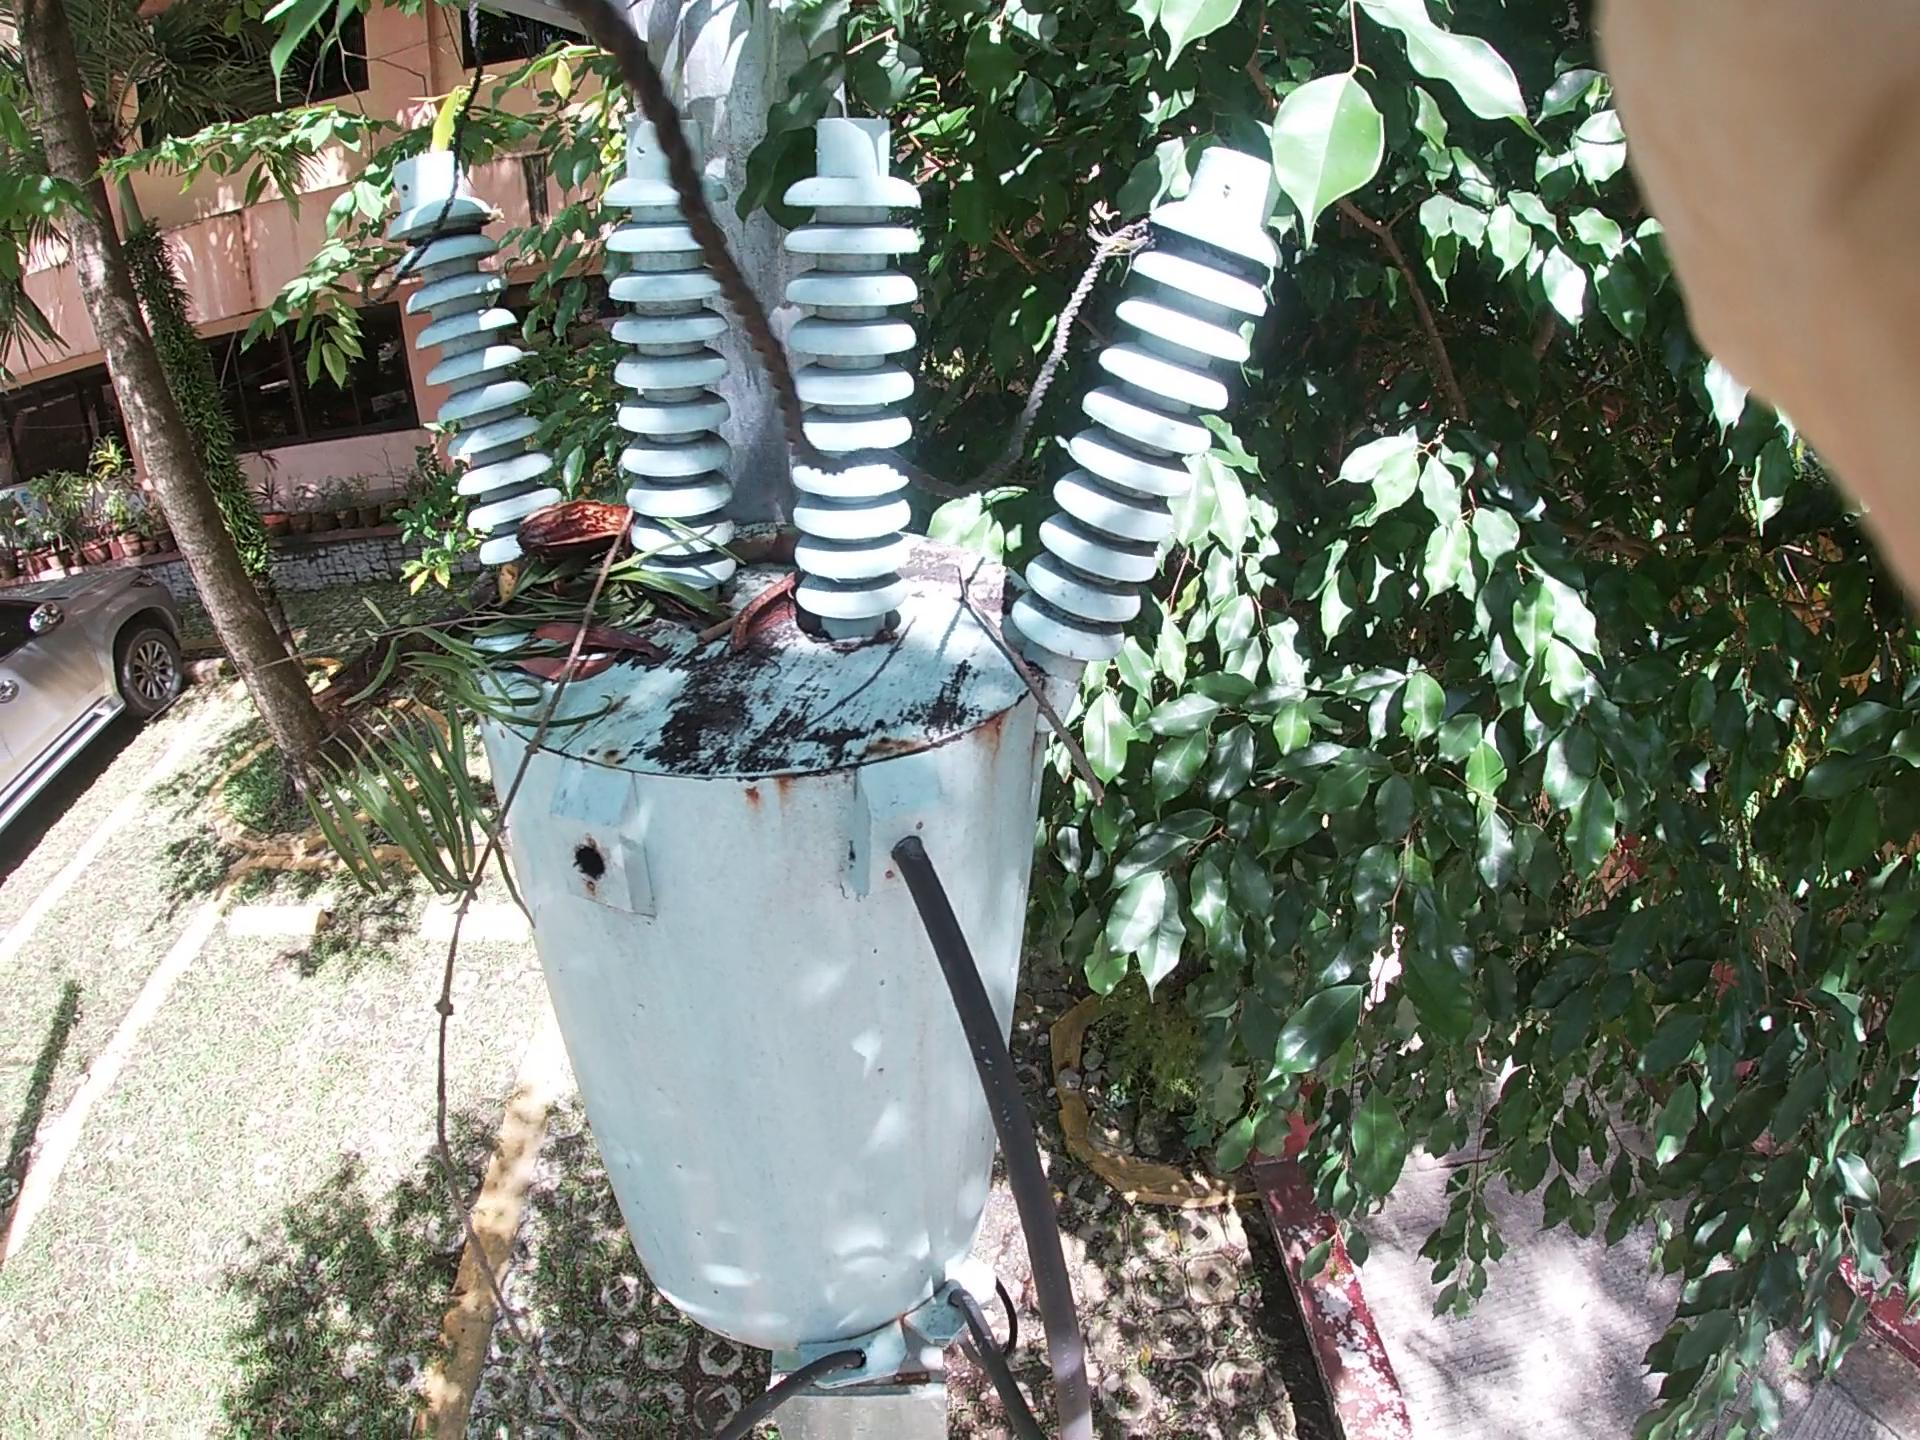branch with leaves: (245, 457, 652, 895)
leaf: (444, 597, 661, 764)
mahogany fruit: (523, 483, 714, 593)
tree branch: (392, 510, 698, 1249), (972, 563, 1170, 883), (712, 470, 792, 715)
